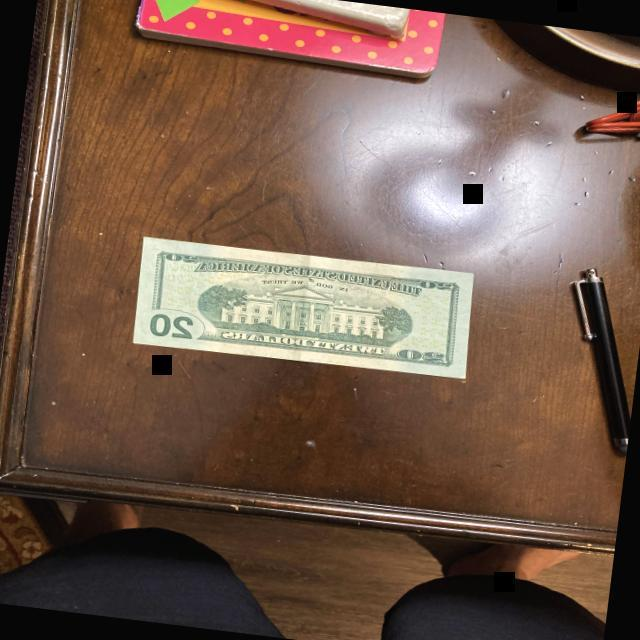twenty: (129, 232, 478, 384)
